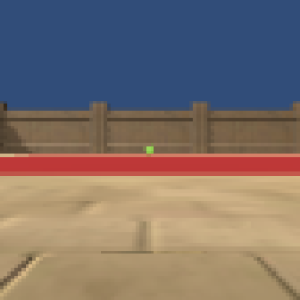deathZone: (1, 155, 300, 178)
goodGoal: (144, 145, 155, 154)
